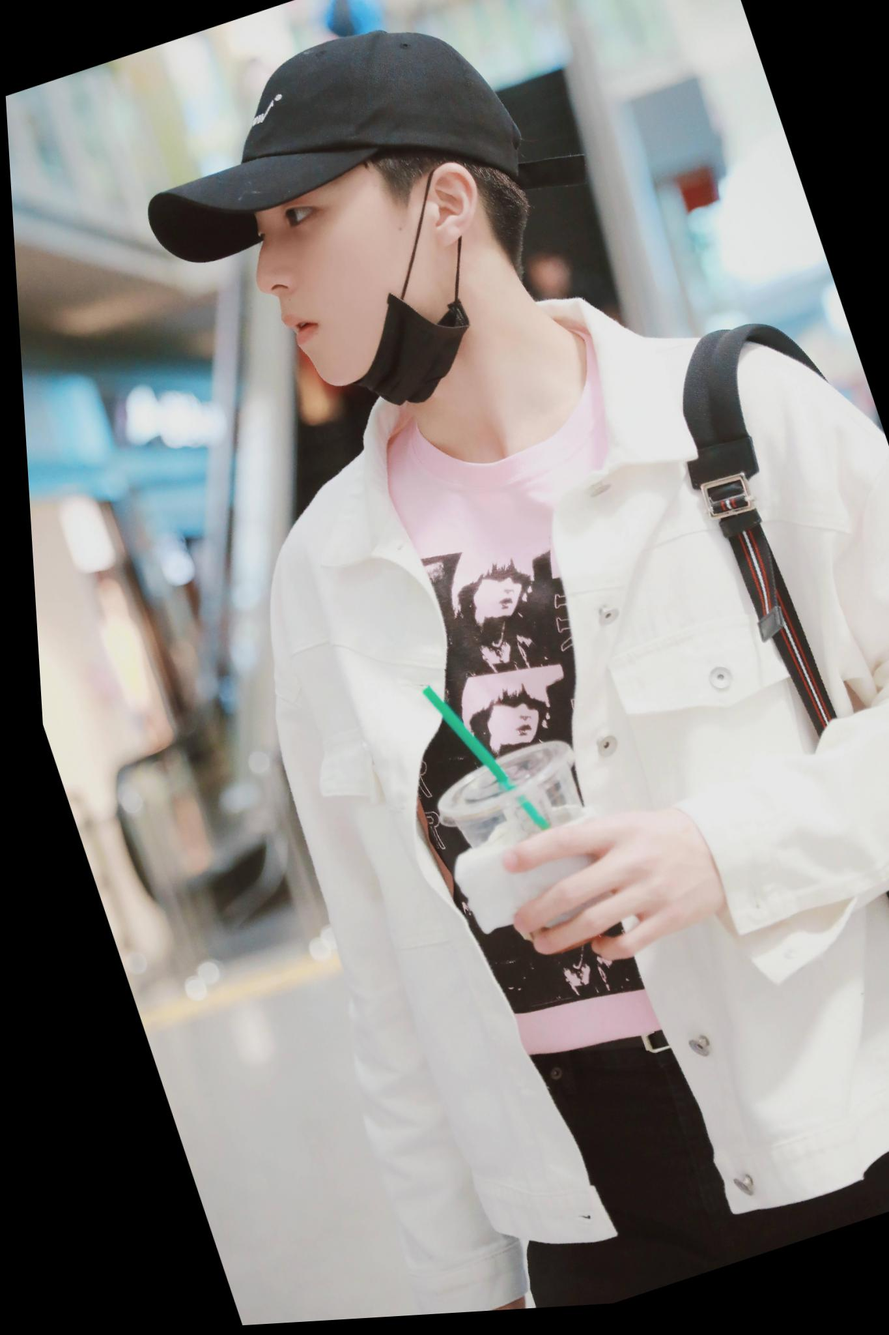WRONG: (232, 164, 447, 425)
